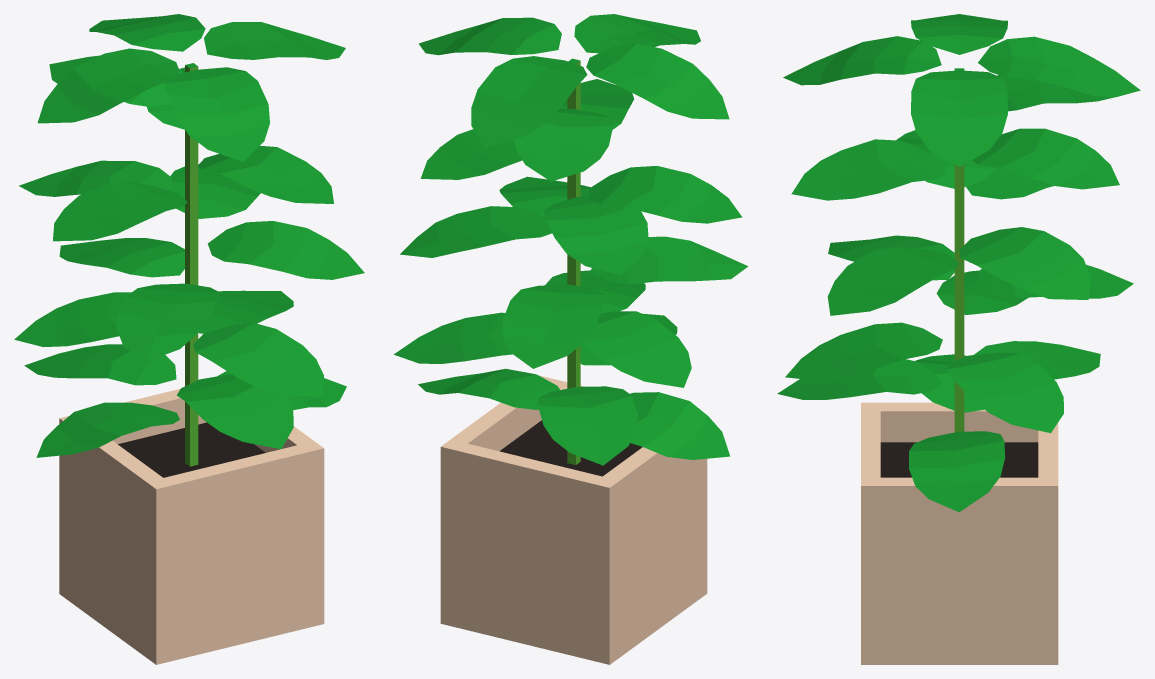
Rendered from Plant01.fbx.
The picture shows the model from 3 angles, left to right: view 1: azimuth 30°, elevation 25°; view 2: azimuth 150°, elevation 25°; view 3: azimuth 270°, elevation 25°; orthographic projection.
Parts seen in each view (by area): view 1: Leaf.015; view 2: Leaf.015; view 3: Leaf.015.
Boxes of the visible parts, x1=… form: Leaf.015: x1=14, y1=14, x2=364, y2=664; Leaf.015: x1=394, y1=14, x2=747, y2=664; Leaf.015: x1=777, y1=14, x2=1140, y2=664.
Size of the model in its own units: 36.99 by 63.33 by 36.89.
